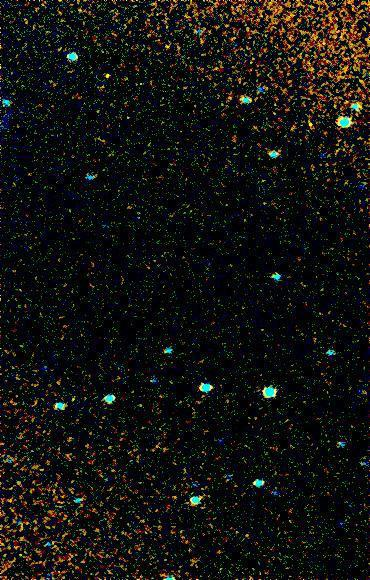star: (94, 62, 124, 92)
